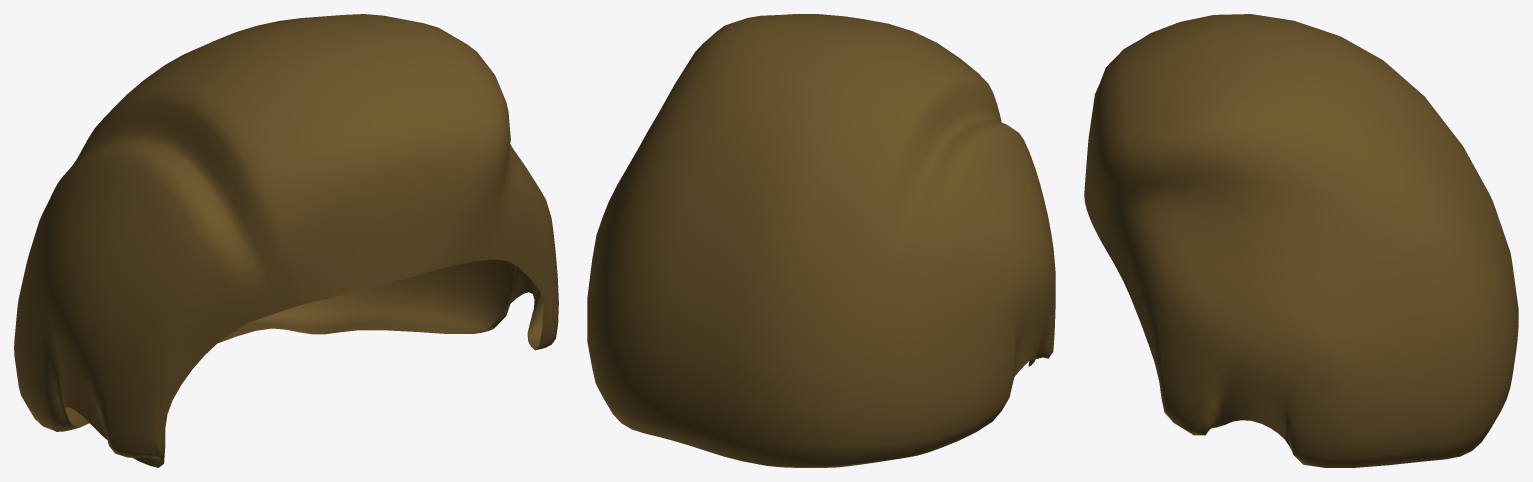
Rendered from Hair04.fbx.
The picture shows the model from 3 angles, left to right: view 1: azimuth 30°, elevation 25°; view 2: azimuth 150°, elevation 25°; view 3: azimuth 270°, elevation 25°; orthographic projection. The views are drawn at different scales.
Visible parts, largest first — view 1: Hair5; view 2: Hair5; view 3: Hair5.
Part boxes in pixels (bbox=[...]): Hair5: bbox=[14, 14, 558, 467]; Hair5: bbox=[587, 14, 1055, 467]; Hair5: bbox=[1084, 14, 1518, 467].
Size of the model in its own units: 12.24 by 9.65 by 10.55.
